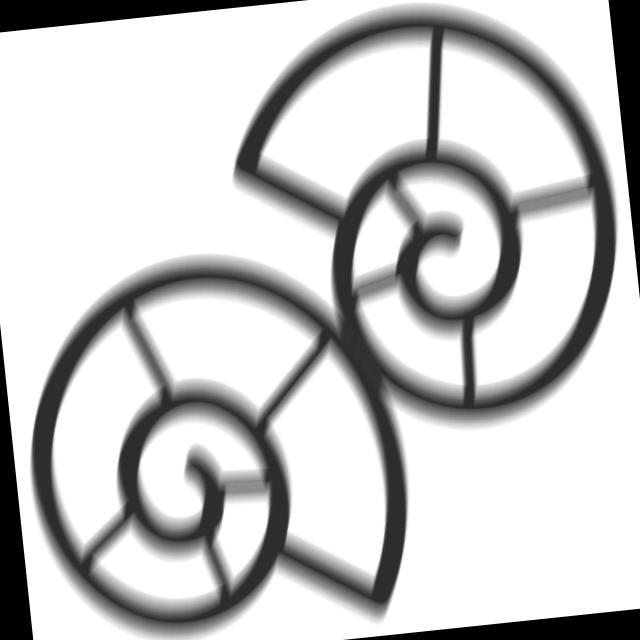fossil: (200, 1, 640, 460), (1, 225, 433, 640)
